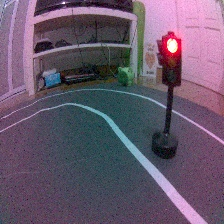red: (151, 30, 184, 159)
